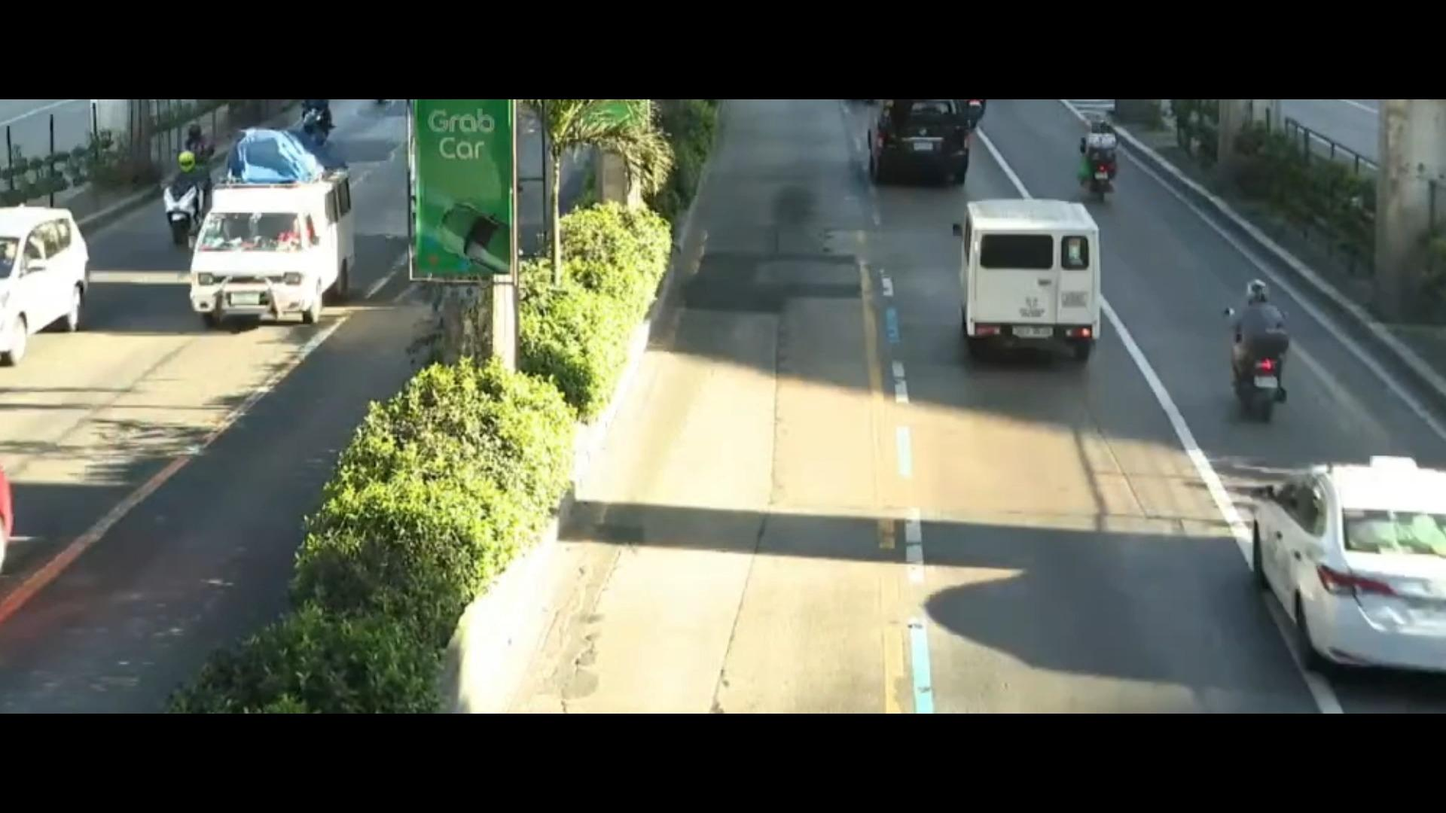Motorcycle: (1200, 277, 1326, 452), (141, 131, 224, 252), (1058, 91, 1135, 209)
Multicab: (177, 139, 382, 346), (951, 184, 1120, 382)
SUV: (0, 191, 116, 370), (831, 93, 989, 209)
Sedan: (1213, 452, 1446, 691)
